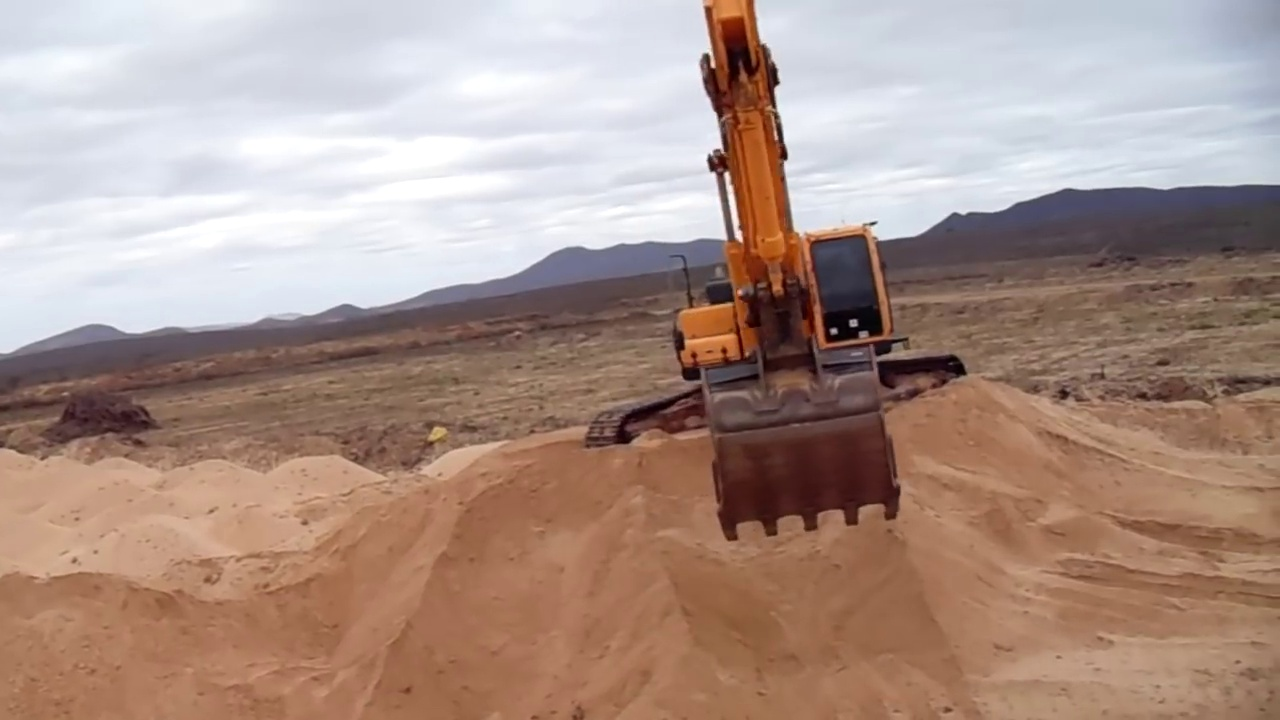excavator: (582, 4, 970, 545)
